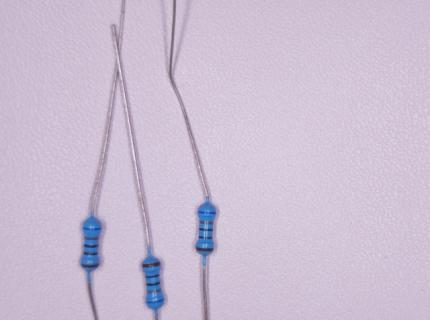Blue band: (146, 298, 165, 304), (83, 226, 102, 231), (198, 211, 216, 214)
Grey band: (147, 289, 162, 294), (199, 220, 213, 225), (85, 236, 99, 240)
